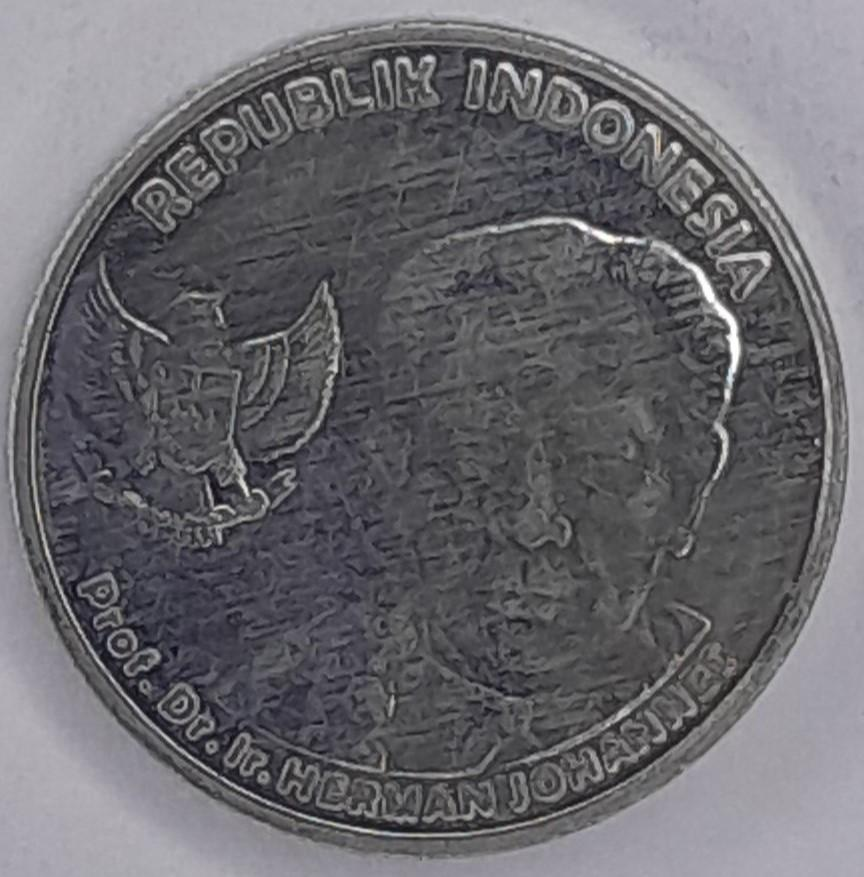coin_100_e2016: (3, 12, 854, 857)
